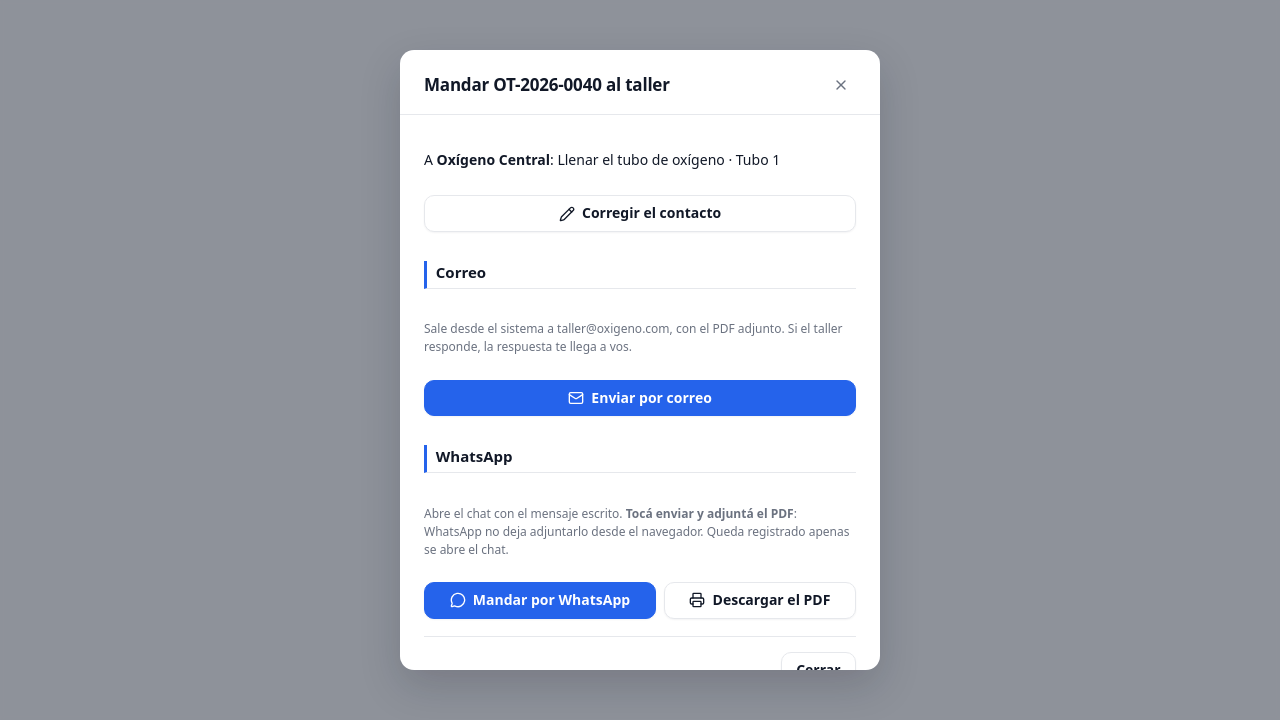
EnviarOrdenTrabajo › por correo: manda solo el PDF; el destinatario lo pone el servidor
This screenshot has width=1280, height=720.
Click the button "Enviar por correo": (640, 398) [424,380,856,416]
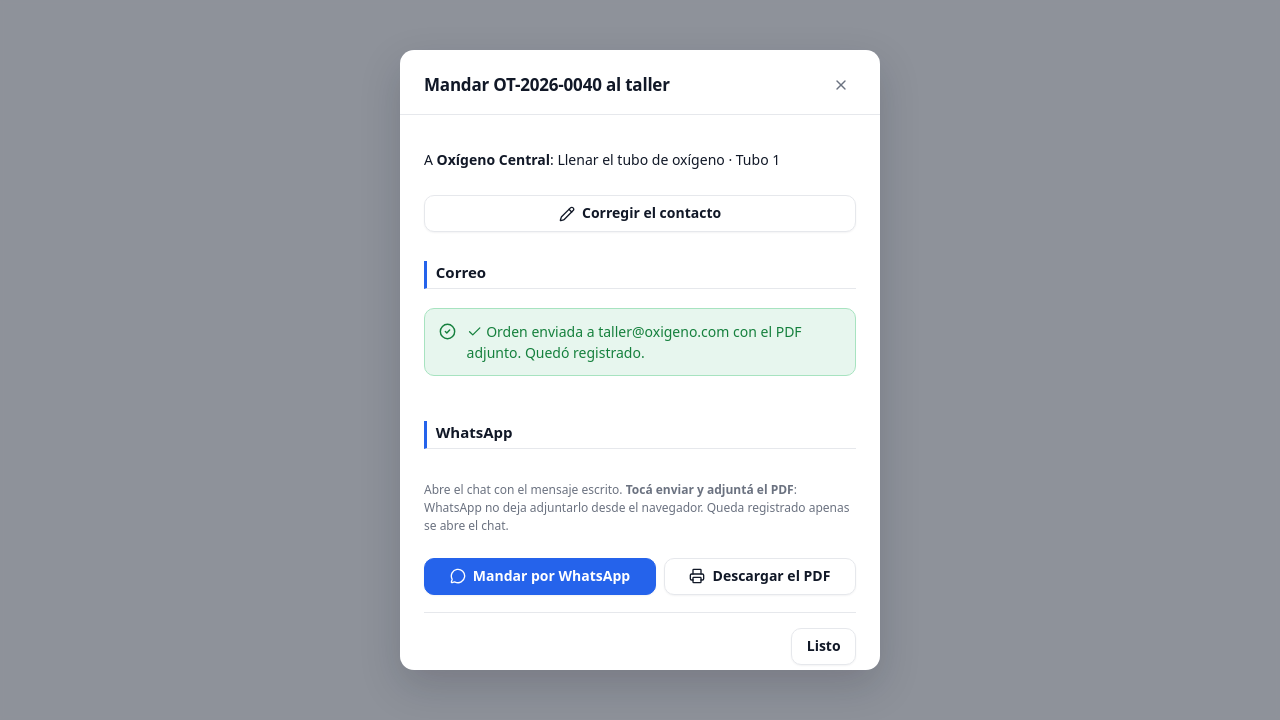
Now the text "Orden enviada a taller@oxigeno.com" is shown, box [424,308,856,376]
